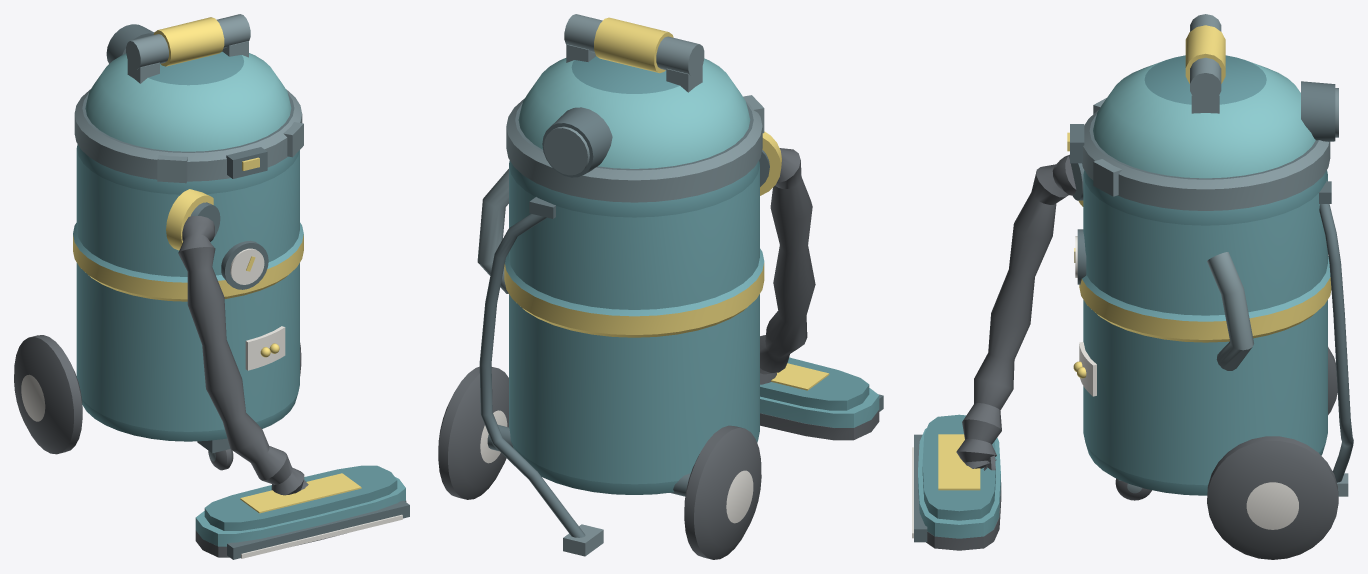
The model's file is aspiradora_n2.glb.
3 views of the same model, side by side, from view 1: azimuth 30°, elevation 25°; view 2: azimuth 150°, elevation 25°; view 3: azimuth 270°, elevation 25° (orthographic). The views are drawn at different scales.
Visible parts, largest first — view 1: deposito2, cupula1, manguera, rueda-11, aro1, tapa_boquilla, deposito1, deposito3, cuerpo_boquilla, asa_puno, boca_boquilla, cupula2 (+13 smaller); view 2: deposito2, cupula1, aro1, manguera, rueda-11, rueda11, deposito3, deposito1, cable, tapa_boquilla, asa_puno, cupula2 (+12 smaller); view 3: deposito2, cupula1, manguera, rueda11, aro1, deposito1, deposito3, tapa_boquilla, cable, cupula2, asa_lat, cuerpo_boquilla (+11 smaller).
Boxes of the visible parts, bbox=[...] form: deposito2: bbox=[73, 148, 303, 431]; cupula1: bbox=[85, 53, 291, 151]; manguera: bbox=[178, 216, 308, 495]; rueda-11: bbox=[14, 335, 82, 454]; aro1: bbox=[74, 89, 302, 181]; tapa_boquilla: bbox=[204, 465, 397, 530]; deposito1: bbox=[77, 144, 299, 441]; deposito3: bbox=[73, 234, 303, 301]; cuerpo_boquilla: bbox=[195, 477, 405, 546]; asa_puno: bbox=[153, 17, 224, 66]; boca_boquilla: bbox=[227, 500, 409, 559]; cupula2: bbox=[148, 51, 243, 85]; deposito2: bbox=[505, 165, 764, 484]; cupula1: bbox=[518, 58, 750, 168]; aro1: bbox=[506, 98, 762, 202]; manguera: bbox=[760, 148, 815, 384]; rueda-11: bbox=[684, 425, 761, 559]; rueda11: bbox=[438, 366, 508, 499]; deposito3: bbox=[504, 263, 764, 337]; deposito1: bbox=[509, 160, 759, 494]; cable: bbox=[479, 213, 585, 537]; tapa_boquilla: bbox=[760, 357, 869, 410]; asa_puno: bbox=[594, 17, 673, 73]; cupula2: bbox=[571, 56, 679, 93]; deposito2: bbox=[1082, 174, 1330, 485]; cupula1: bbox=[1093, 61, 1315, 178]; manguera: bbox=[956, 154, 1076, 470]; rueda11: bbox=[1207, 436, 1338, 559]; aro1: bbox=[1082, 110, 1330, 210]; deposito1: bbox=[1083, 170, 1327, 495]; deposito3: bbox=[1079, 277, 1331, 342]; tapa_boquilla: bbox=[922, 414, 995, 520]; cable: bbox=[1319, 204, 1353, 482]; cupula2: bbox=[1144, 55, 1266, 104]; asa_lat: bbox=[1207, 252, 1253, 370]; cuerpo_boquilla: bbox=[918, 428, 1000, 538].
Size of the model in its own units: 0.3296 by 0.5315 by 0.4627.
